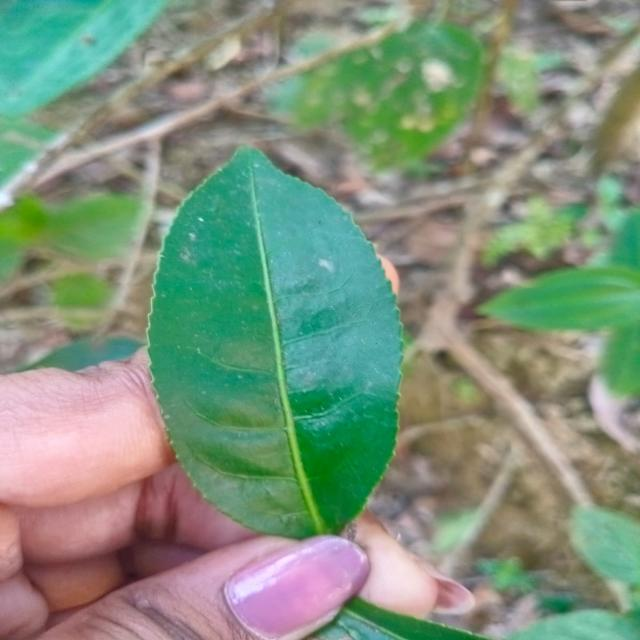Category D(7+ days, Not for Tea): (96, 139, 503, 553)
